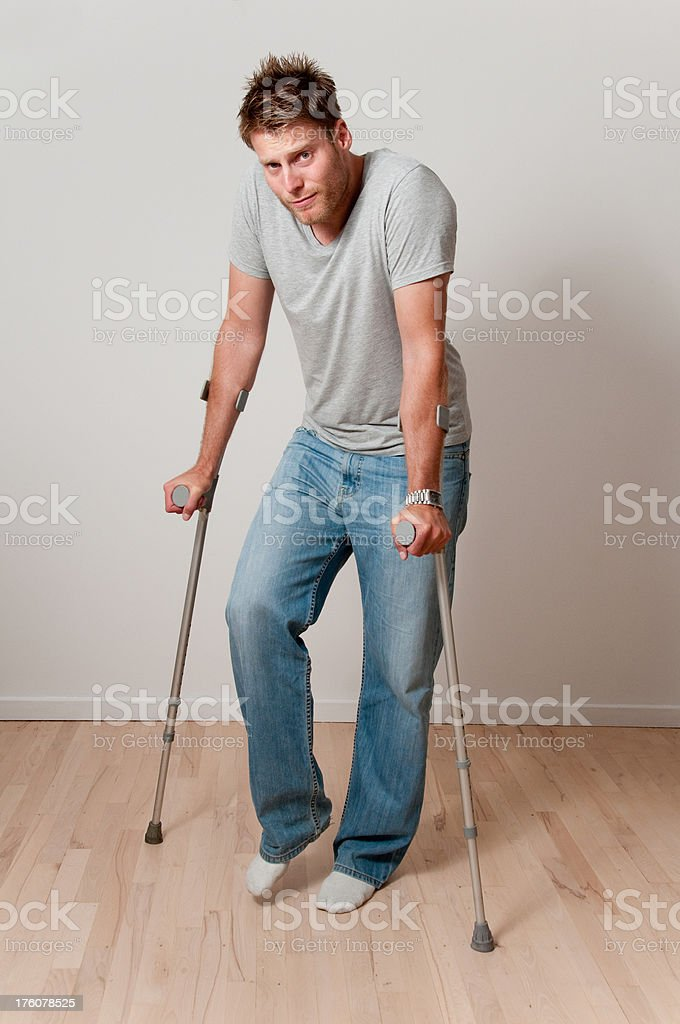crutches: (142, 50, 495, 951)
